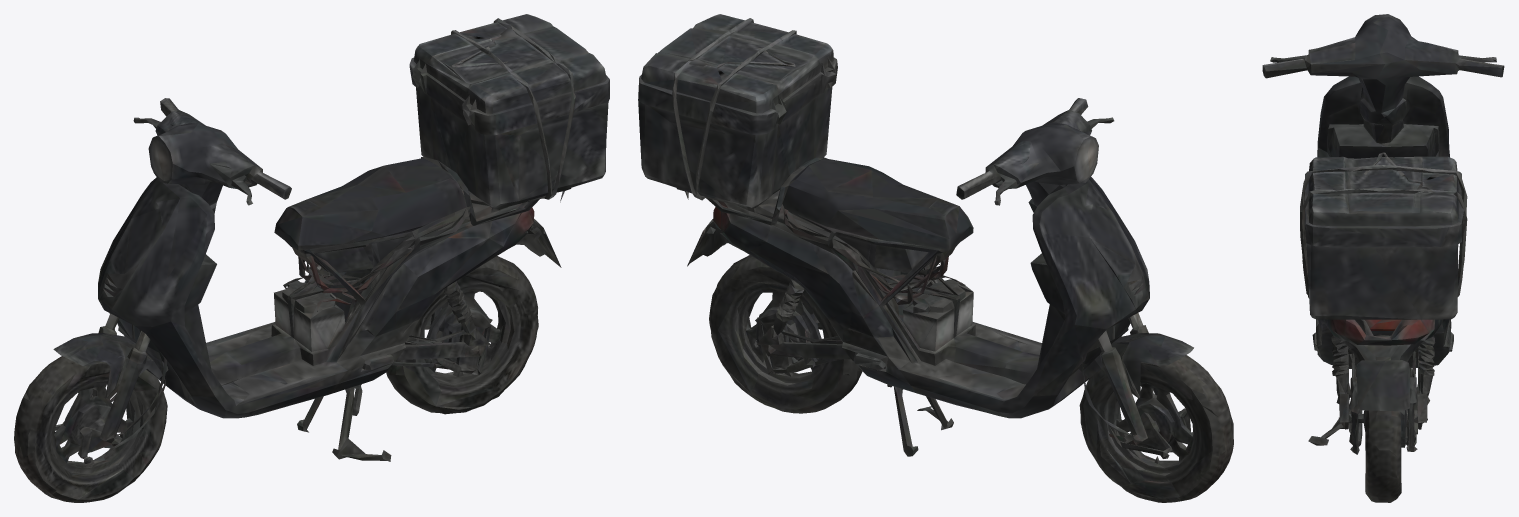
The model's file is ncz-scooter.glb.
The picture shows the model from 3 angles, left to right: view 1: azimuth 30°, elevation 25°; view 2: azimuth 150°, elevation 25°; view 3: azimuth 270°, elevation 25°; orthographic projection.
Parts seen in each view (by area): view 1: output_unwrapped; view 2: output_unwrapped; view 3: output_unwrapped.
Boxes of the visible parts, box(x1,y1,x2,y2) form: output_unwrapped: box(14, 14, 609, 502); output_unwrapped: box(638, 14, 1233, 502); output_unwrapped: box(1262, 14, 1504, 502).
Bounding box in the file's own units: 1.9 × 1.14 × 0.727.
Materials: 1 (1 with a texture image).
